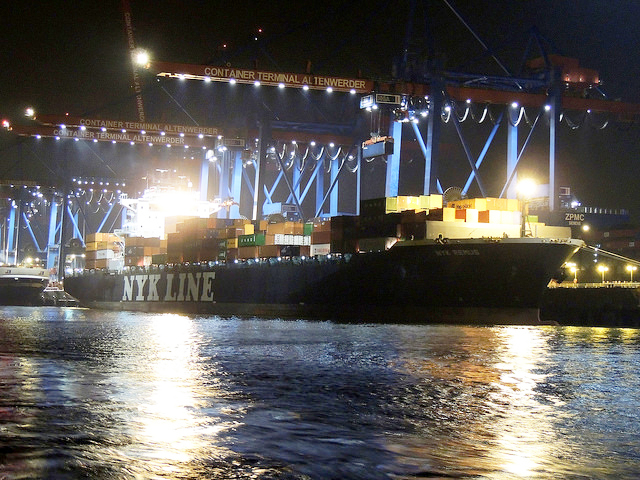container_ship: (58, 173, 580, 325)
